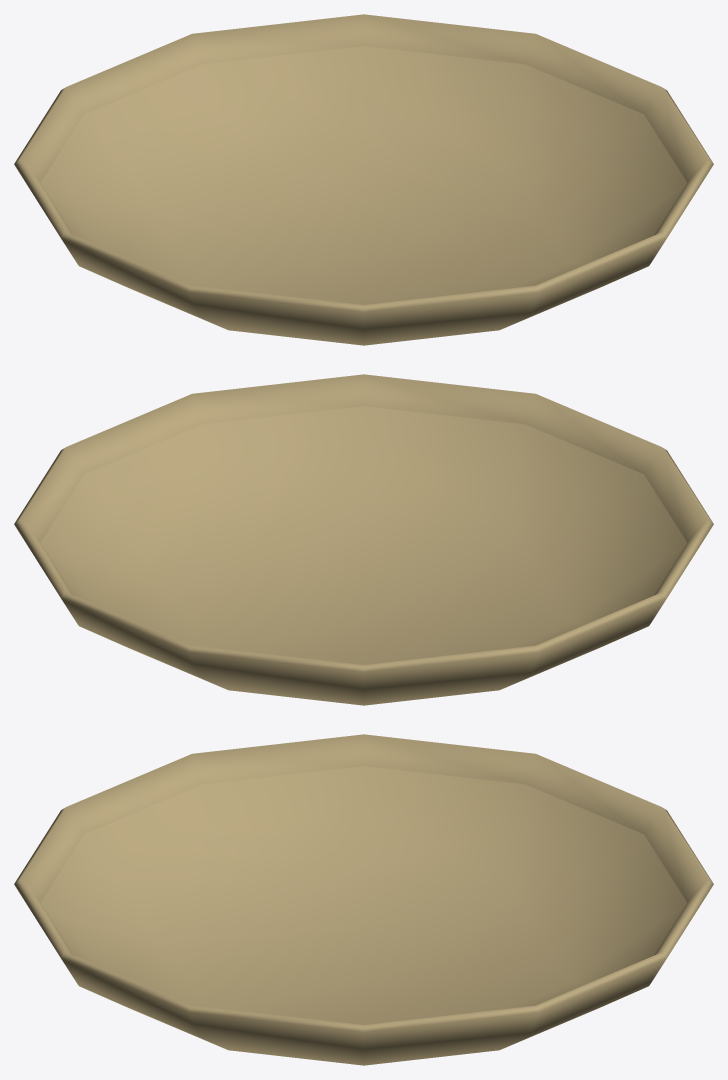
File: bowl_04.glb
The picture shows the model from 3 angles, top to bottom: view 1: azimuth 30°, elevation 25°; view 2: azimuth 150°, elevation 25°; view 3: azimuth 270°, elevation 25°; orthographic projection.
Parts seen in each view (by area): view 1: bowl.04; view 2: bowl.04; view 3: bowl.04.
Boxes of the visible parts, box(x1,y1,x2,y2) form: bowl.04: box(14, 14, 713, 345); bowl.04: box(14, 374, 713, 705); bowl.04: box(14, 734, 713, 1065).
Bounding box in the file's own units: 0.5554 × 0.0864 × 0.5554.
Materials: 1 (1 with a texture image).
